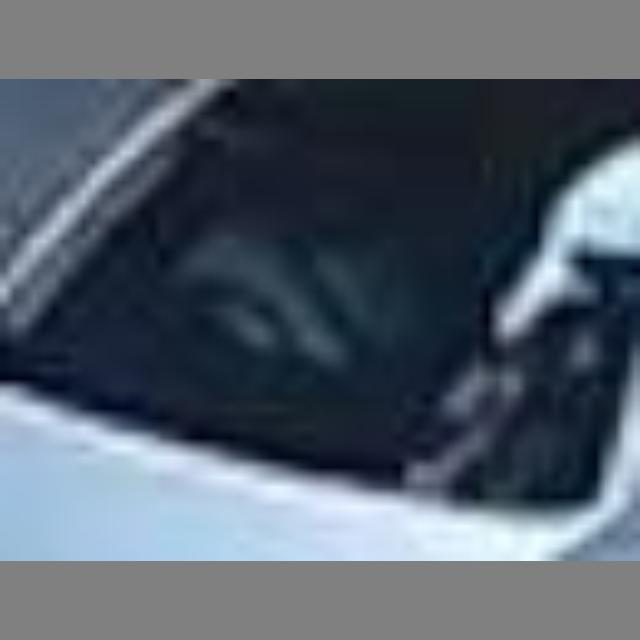pakai: (177, 197, 384, 394)
